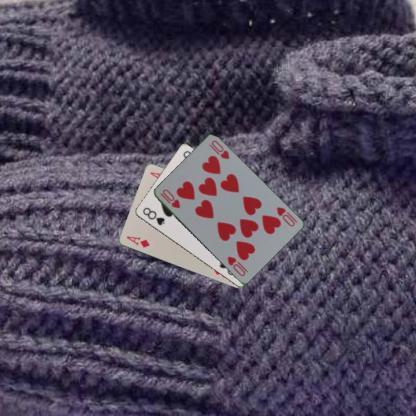10h: (157, 186, 182, 209), (273, 204, 296, 228)
8s: (140, 204, 166, 226)
Ad: (124, 233, 150, 249)
